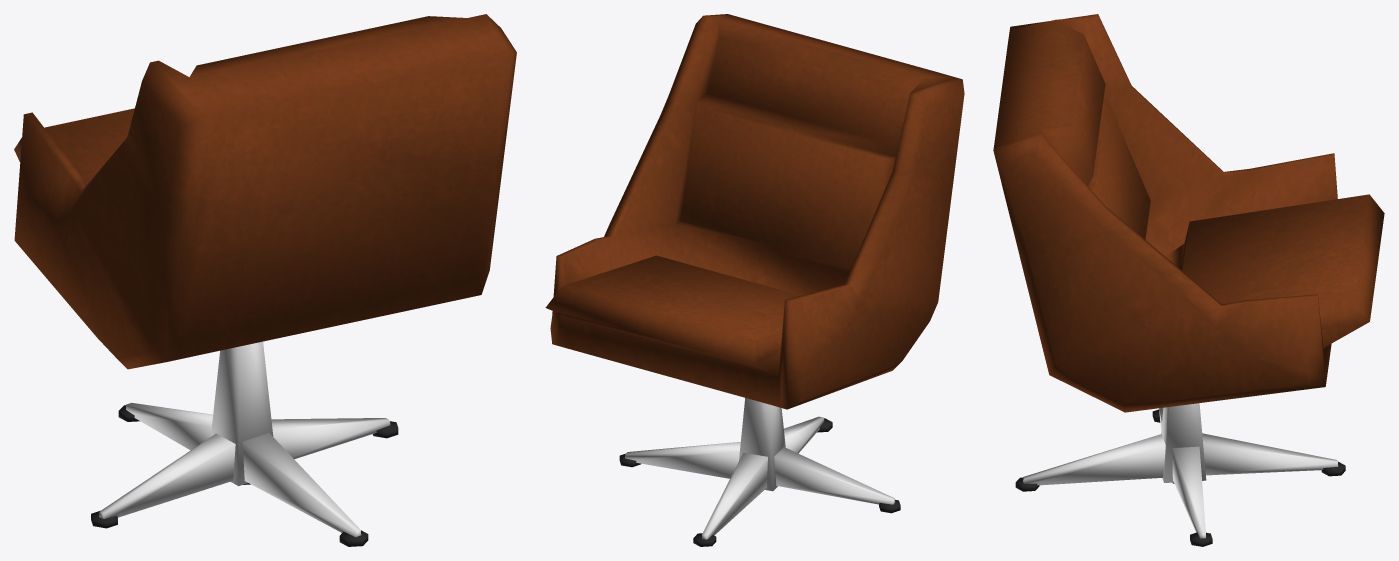
The model's file is chair_brown.glb.
The picture shows the model from 3 angles, left to right: view 1: azimuth 30°, elevation 25°; view 2: azimuth 150°, elevation 25°; view 3: azimuth 270°, elevation 25°; orthographic projection. The views are drawn at different scales.
Visible parts, largest first — view 1: Cube; view 2: Cube; view 3: Cube.
Boxes of the visible parts, bbox=[...] form: Cube: bbox=[14, 14, 516, 546]; Cube: bbox=[545, 14, 964, 546]; Cube: bbox=[993, 14, 1384, 546].
Size of the model in its own units: 0.84 by 1.12 by 0.9741.
Materials: 3 (1 with a texture image).
